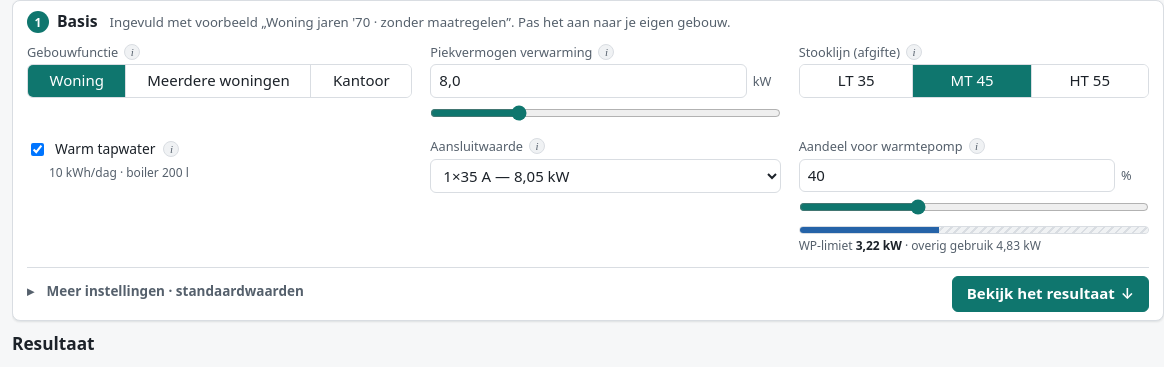
Bekijk het resultaat › klapt in (bewaard), scrolt naar het oordeel en zet de focus op H2 "Resultaat"
Click the button "Bekijk het resultaat ↓": (1050, 294) [952,276,1149,312]
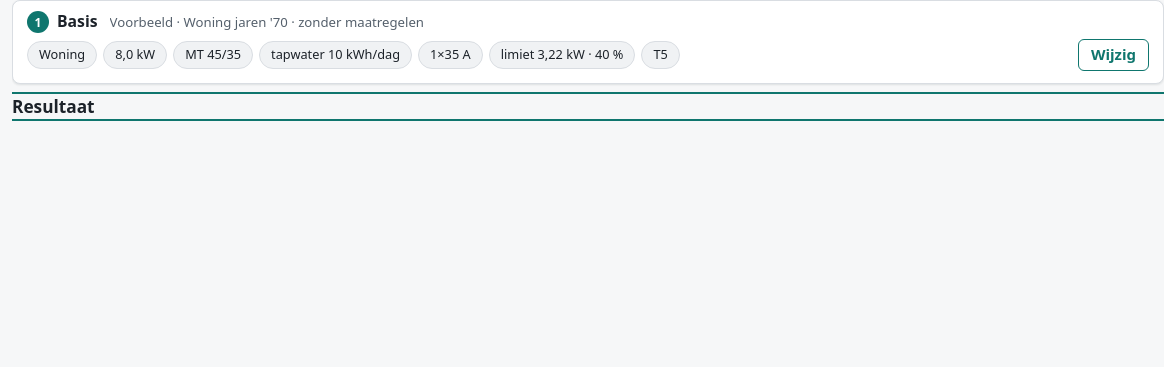
Now the element named "Basis" is shown, box [27,41,680,69]
